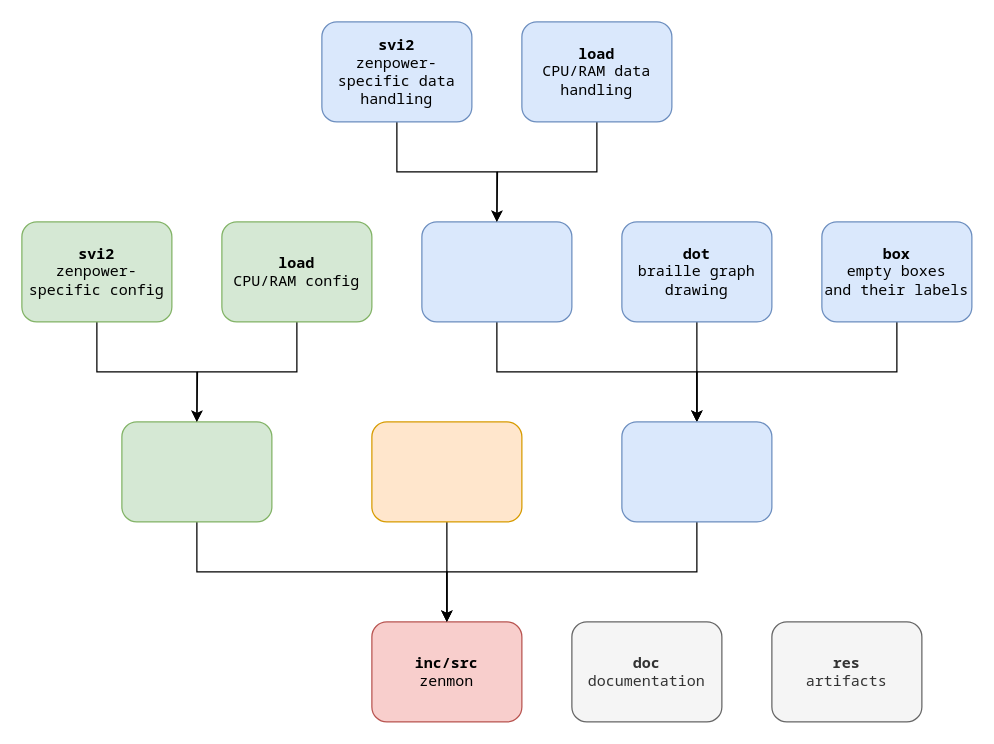
The diagram is 994 pixels wide and 744 high, and some of its shapes have lost their labels. Here are the shapes that lost their labels. From the top down, the box of each, then its label:
(421, 221, 572, 322): num data aquisition + interpretation
(121, 421, 272, 522): cfg generic config
(371, 421, 522, 522): lib generic utilities
(621, 421, 772, 522): mod application modules
